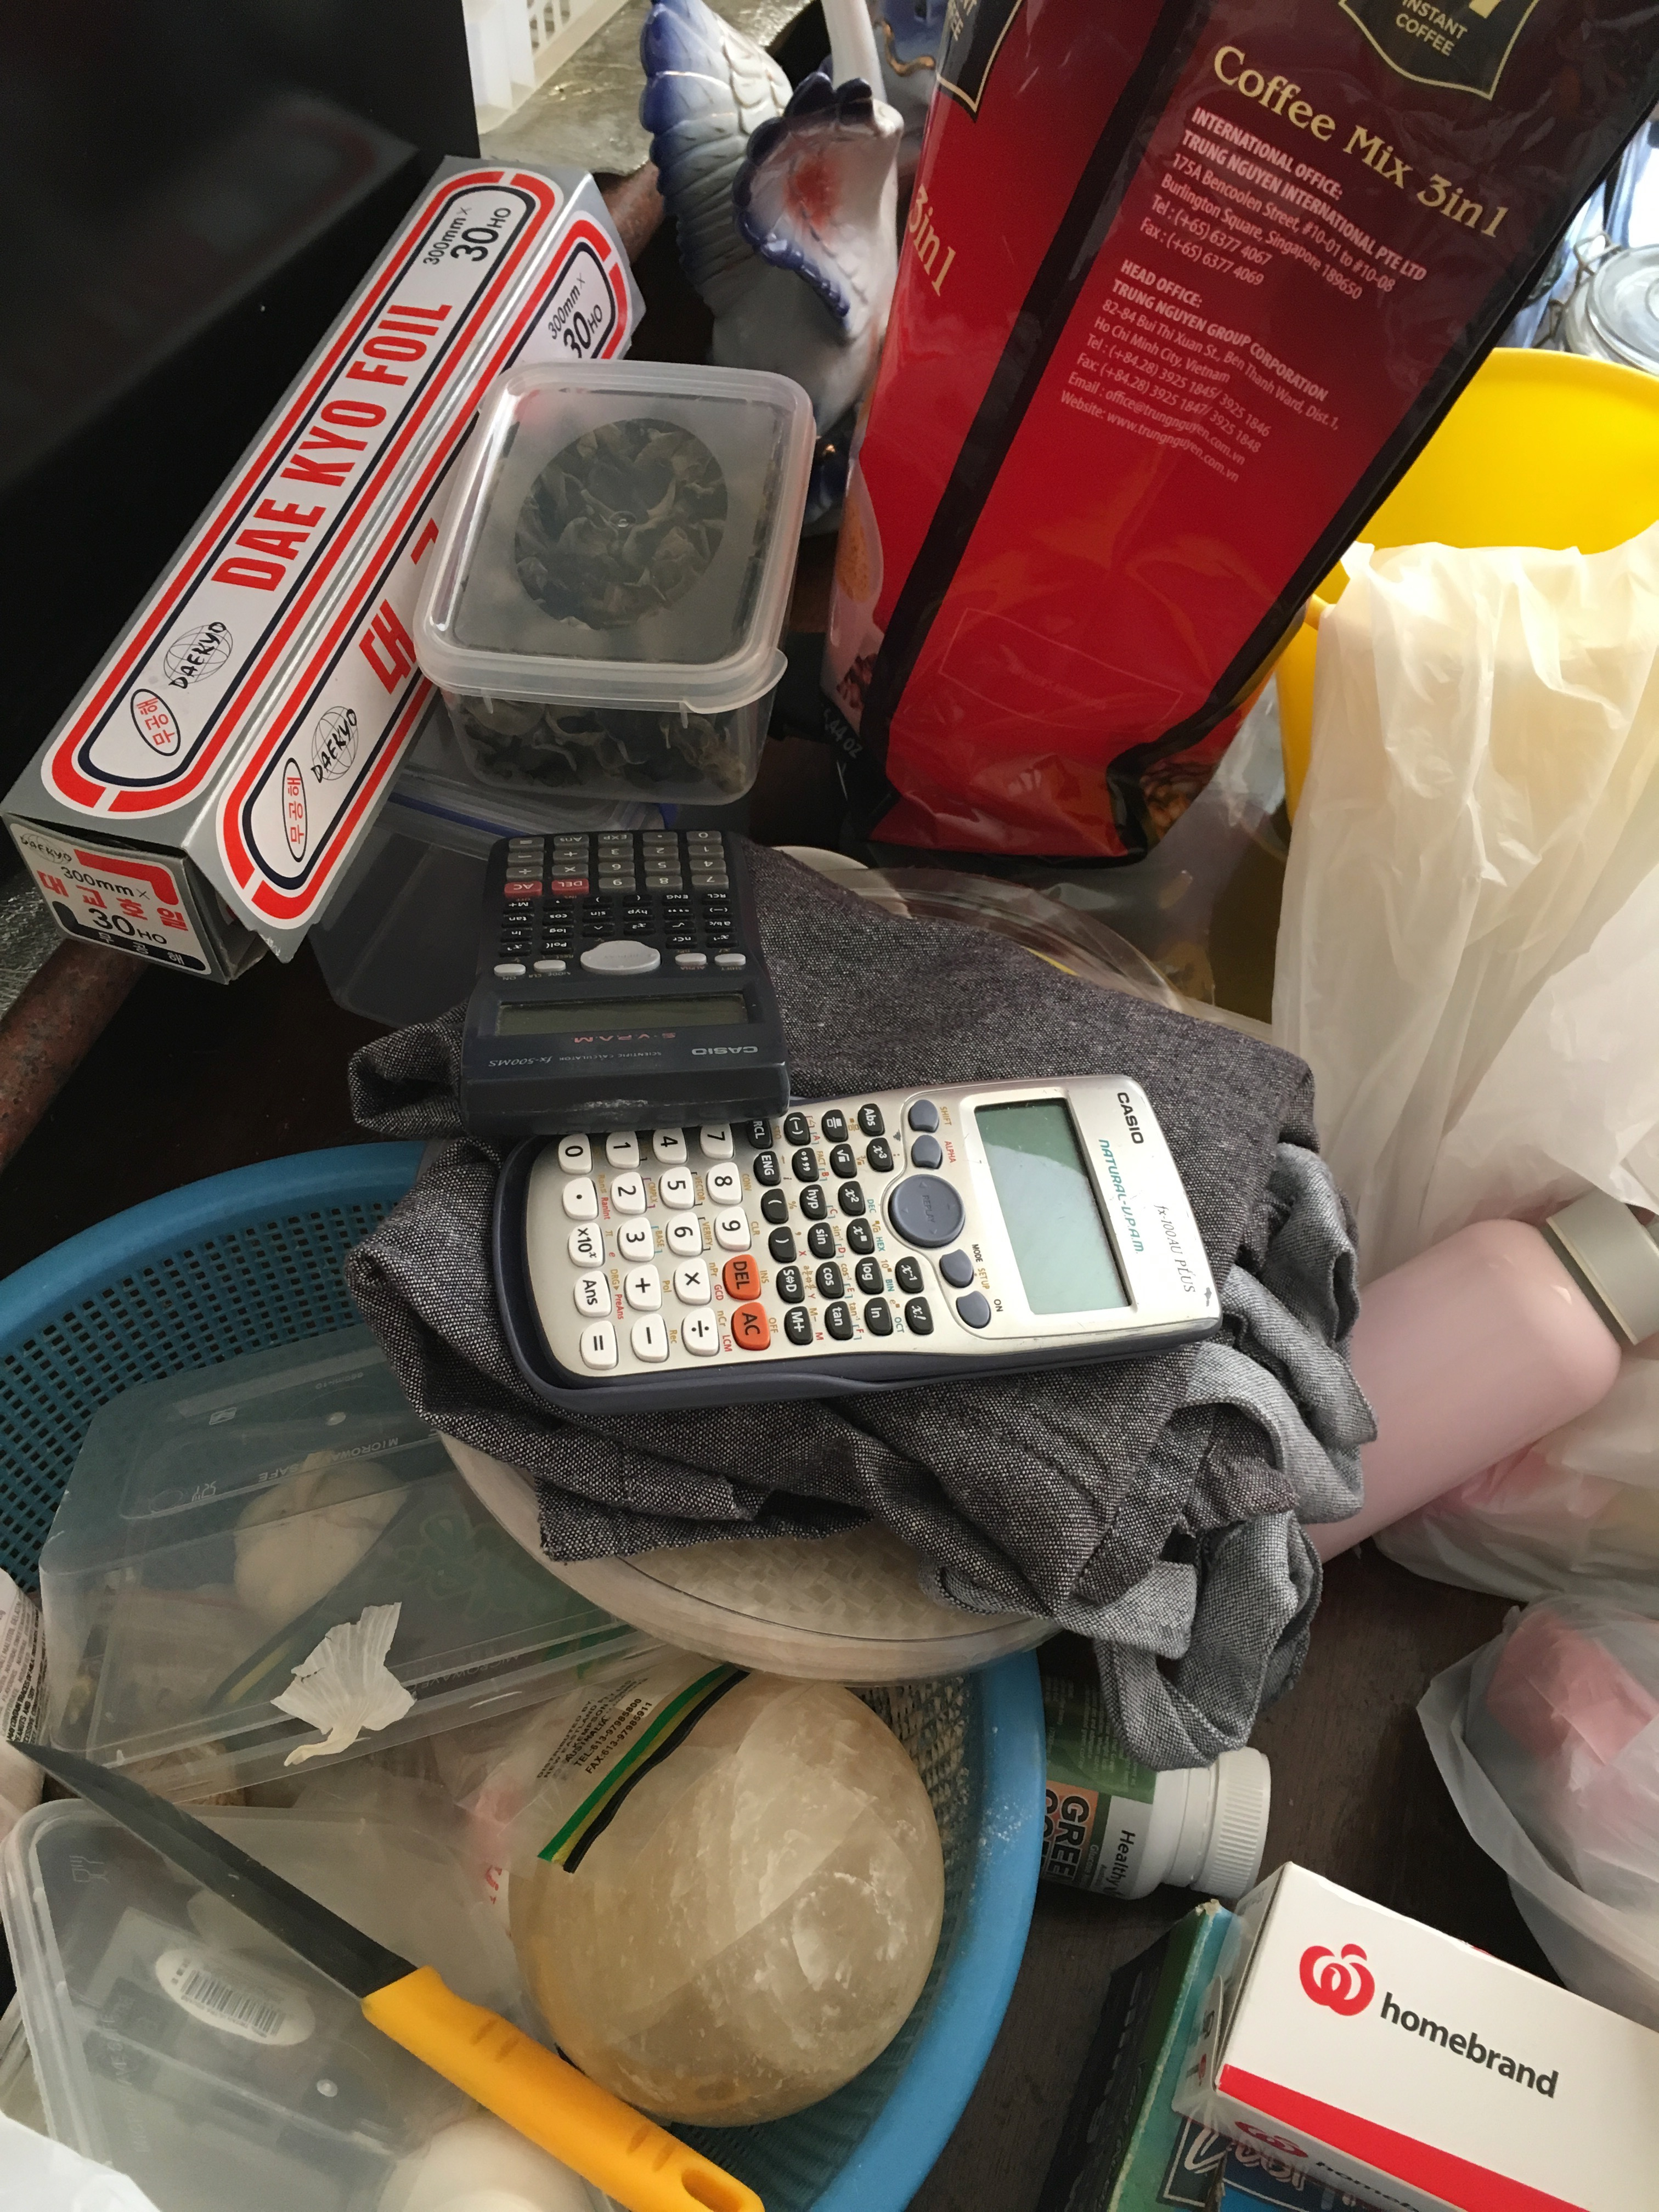Calculator: (472, 1062, 1218, 1421), (448, 817, 807, 1146)
